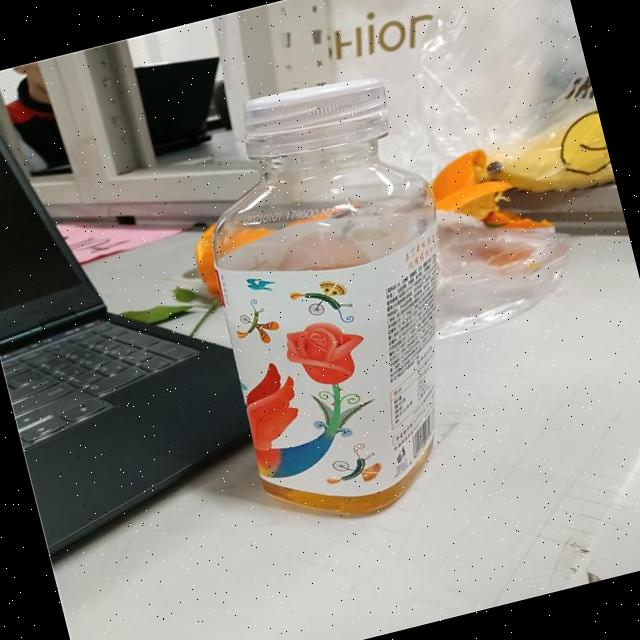orange-peel: (185, 184, 371, 304)
